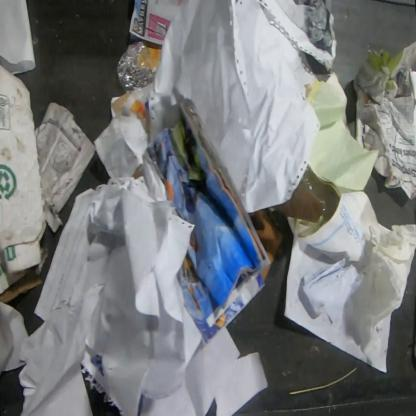cardboard: (0, 63, 47, 304), (247, 207, 284, 282), (270, 180, 322, 224)
rigid_plastic: (116, 40, 158, 98)
soft_plastic: (301, 165, 329, 215)
